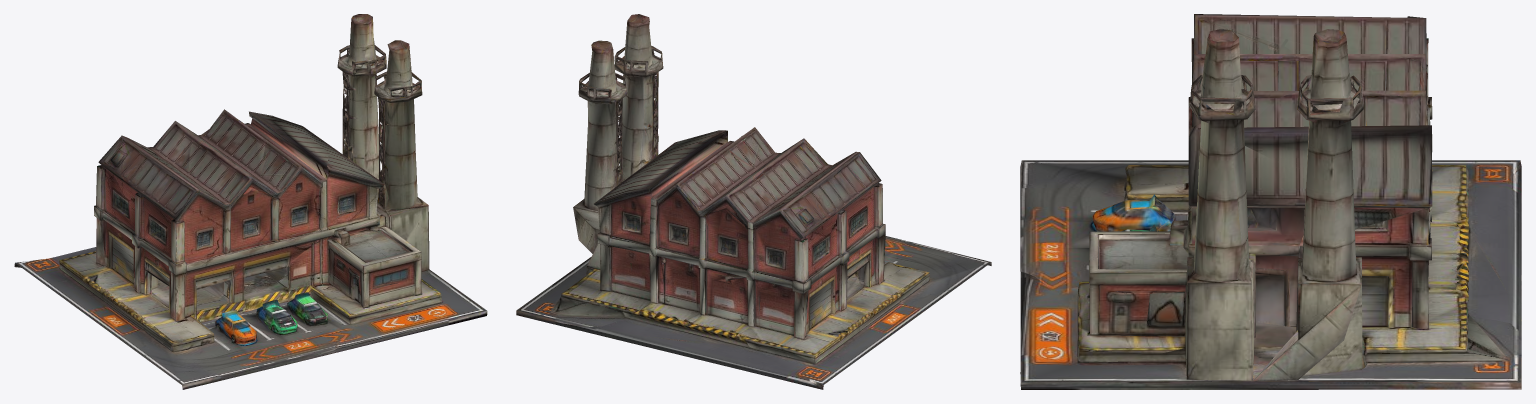
Rendered from factory.glb.
3 renders of one model, left to right at view 1: azimuth 30°, elevation 25°; view 2: azimuth 150°, elevation 25°; view 3: azimuth 270°, elevation 25°, orthographic. The views are drawn at different scales.
Visible parts, largest first — view 1: Mesh_0; view 2: Mesh_0; view 3: Mesh_0.
Part boxes in pixels (x1,y1,x2,y2): Mesh_0: [14, 14, 487, 389]; Mesh_0: [516, 14, 991, 389]; Mesh_0: [1020, 14, 1521, 389].
Size of the model in its own units: 1.9 by 1.35 by 1.81.
Materials: 1 (1 with a texture image).
